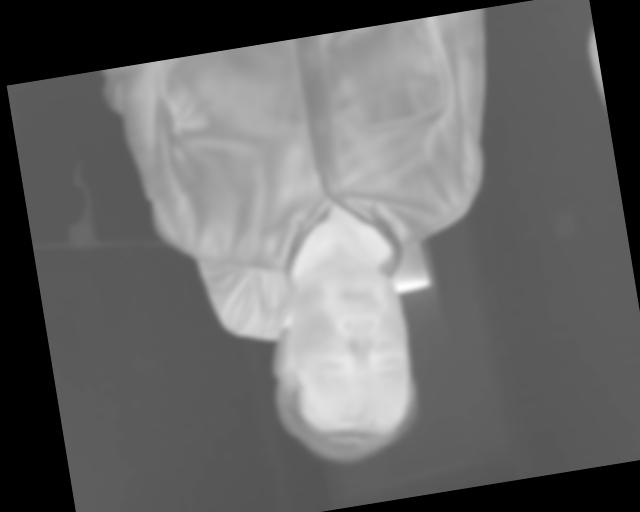face: (253, 253, 428, 477)
